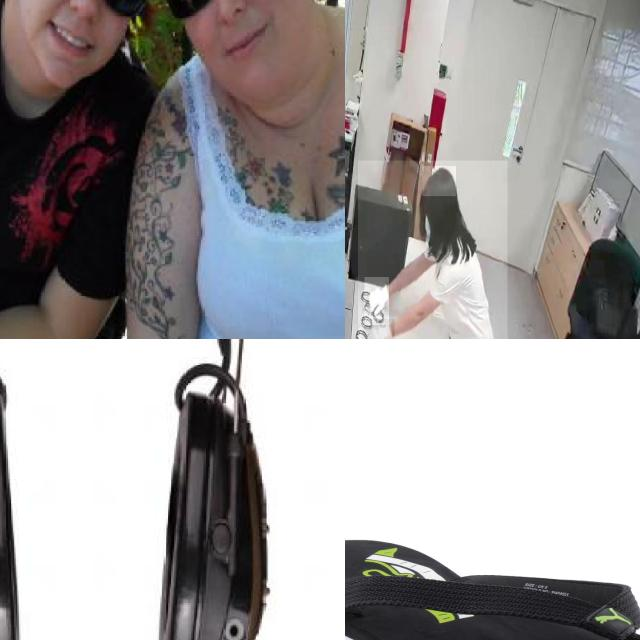Ear-protection: (0, 339, 272, 640)
Sandals: (345, 536, 640, 640)
face_nomask: (169, 0, 287, 60), (34, 0, 138, 62)
hand_glove: (365, 277, 389, 325), (363, 319, 394, 339)
head_nohelmet: (422, 166, 457, 197)
person: (133, 0, 345, 339), (0, 0, 156, 339), (358, 160, 508, 339)
